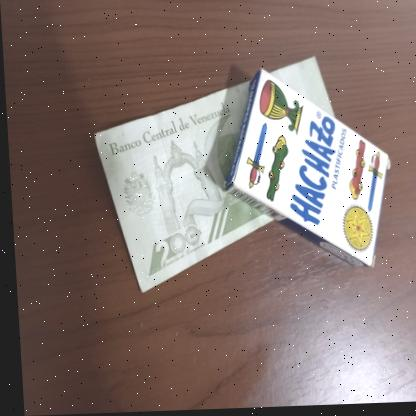fifty-back-vef: (87, 56, 342, 298)
